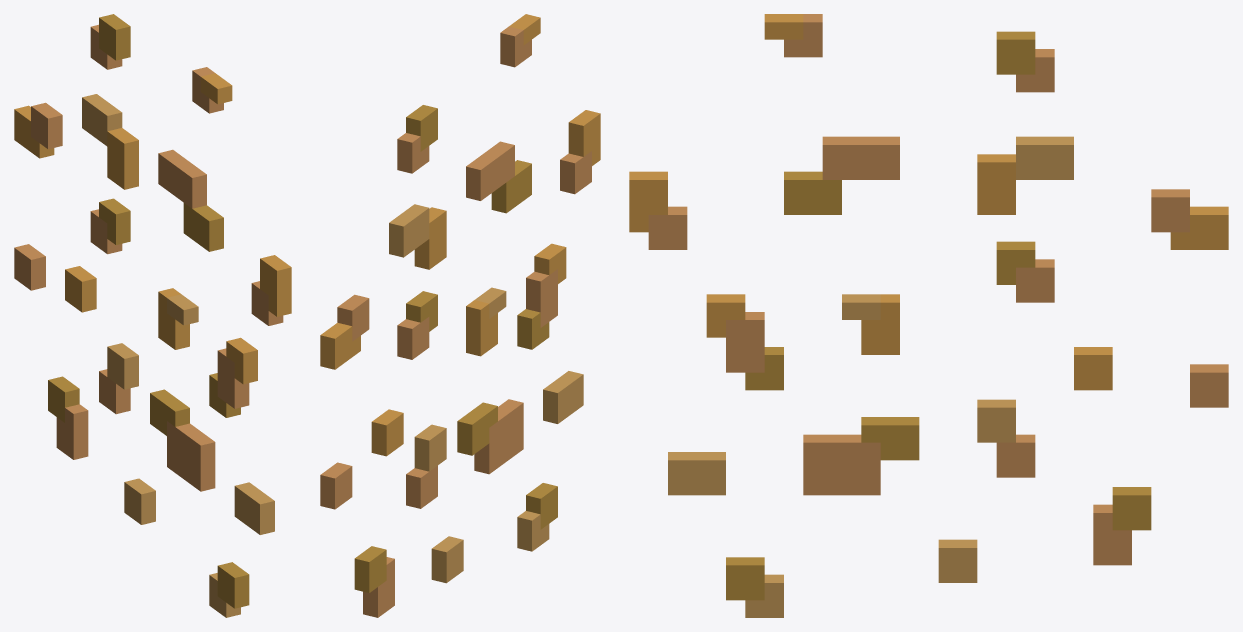
The model's file is Wheat Seeds.fbx.
The picture shows the model from 3 angles, left to right: view 1: azimuth 30°, elevation 25°; view 2: azimuth 150°, elevation 25°; view 3: azimuth 270°, elevation 25°; orthographic projection. The views are drawn at different scales.
Visible parts, largest first — view 1: Wheat Seeds; view 2: Wheat Seeds; view 3: Wheat Seeds.
Part boxes in pixels (x1,y1,x2,y2): Wheat Seeds: [14, 14, 291, 617]; Wheat Seeds: [320, 14, 600, 617]; Wheat Seeds: [629, 14, 1228, 617].
Bounding box in the file's own units: 0.02 × 0.62 × 0.68.
1 material, 1 textured.
